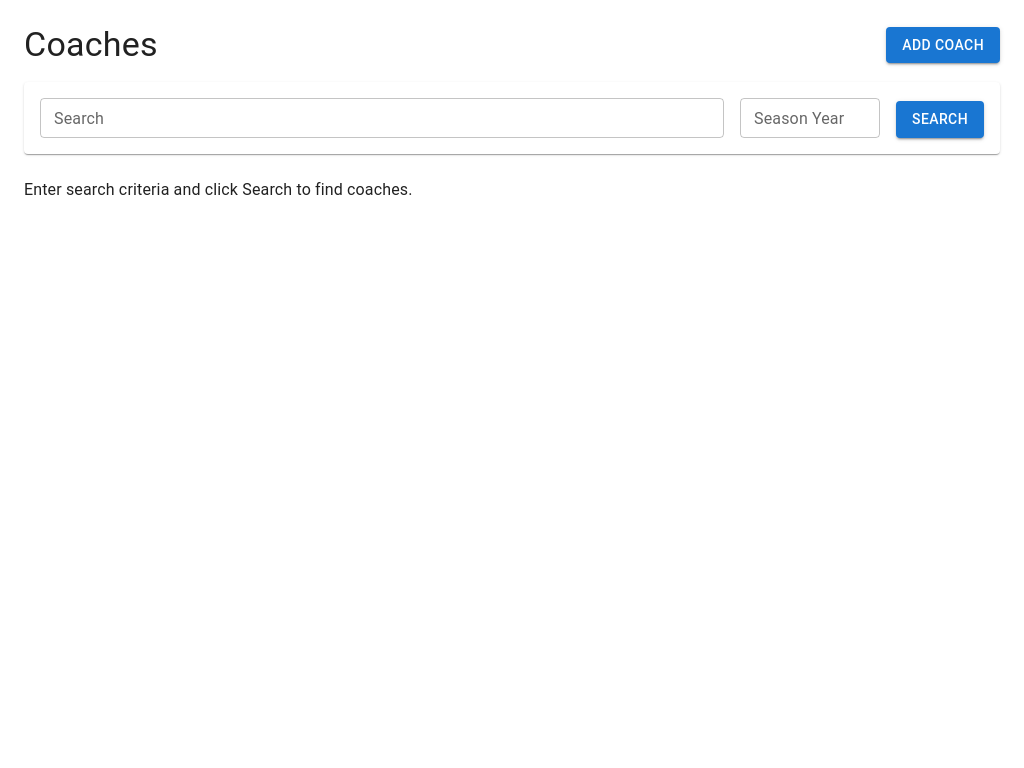
Scenario: Coaches Page › Add Coach › should close dialog when Cancel is clicked
What coordinates should you click on to do the following:
click the button "Add Coach"
I would click on:
 (943, 45)
Its box is [886,27,1000,63].
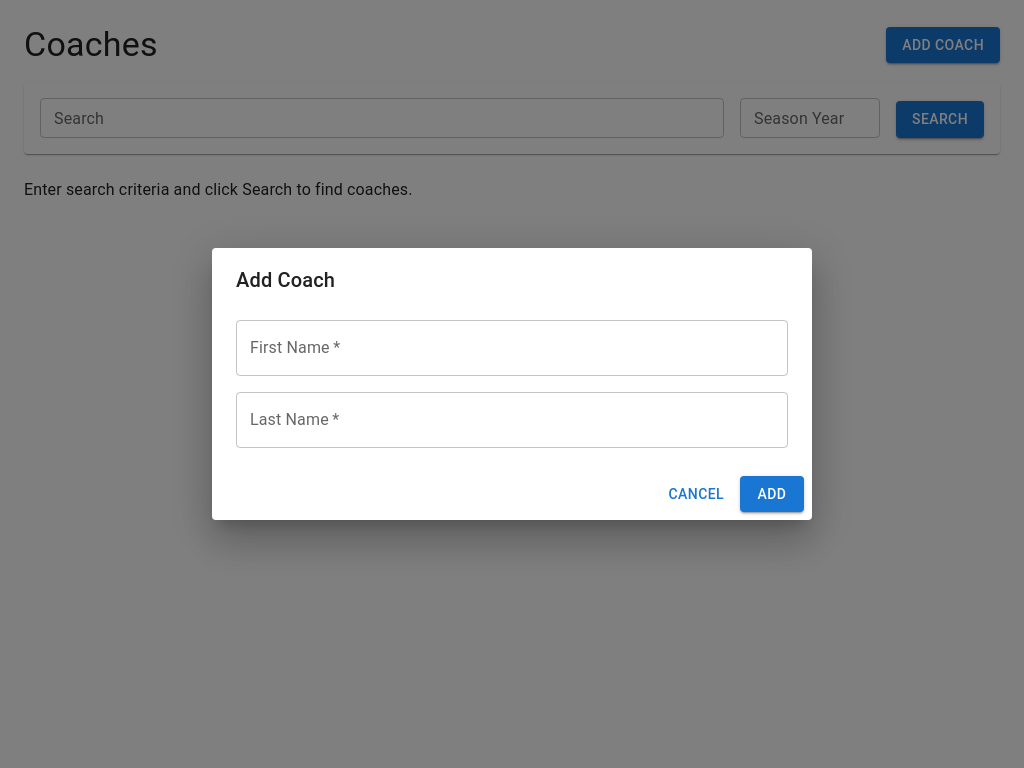
What coordinates should you click on to do the following:
click the button "Cancel"
I would click on:
 (696, 494)
Its box is [660,476,732,512].
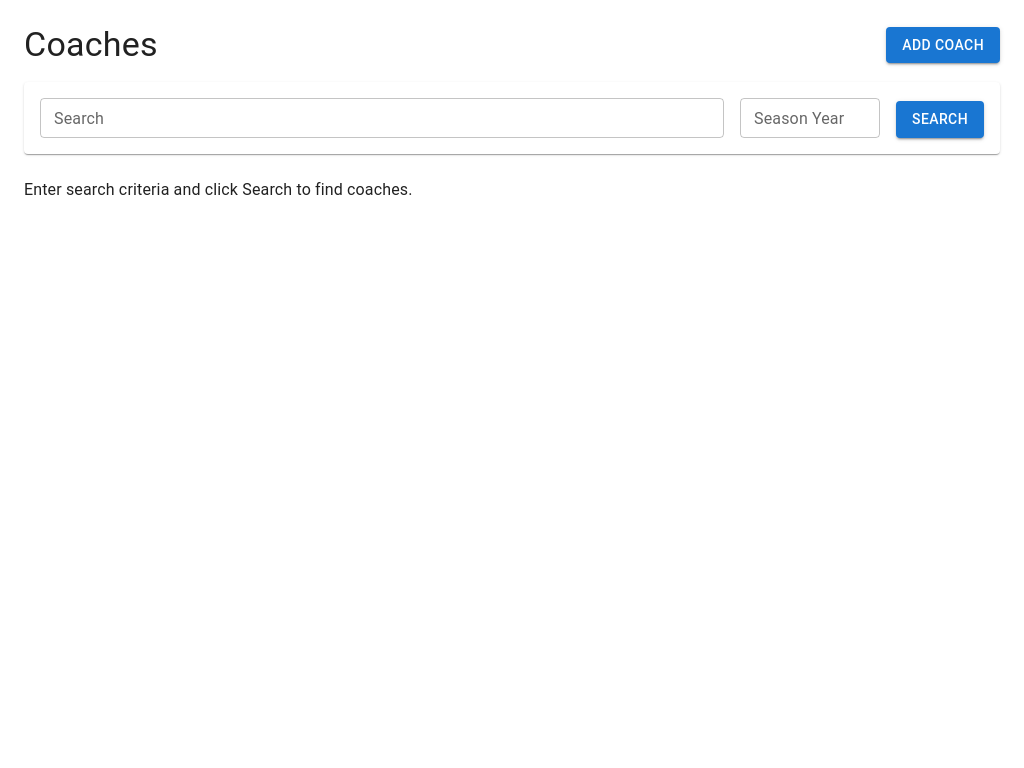
Result: the dialog is gone
